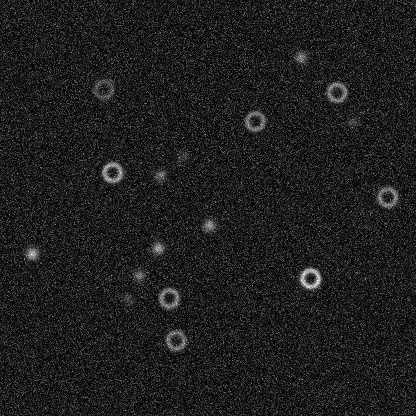Ring: (324, 80, 348, 104), (242, 109, 266, 133), (91, 77, 115, 101), (163, 328, 187, 352), (298, 266, 322, 290), (156, 285, 180, 309), (100, 160, 124, 184), (375, 184, 399, 208)
Spot: (175, 148, 191, 164), (200, 217, 216, 233), (23, 245, 39, 261), (149, 239, 165, 255), (152, 167, 168, 183), (130, 267, 146, 283), (119, 290, 135, 306), (345, 113, 361, 129), (292, 49, 308, 65)
